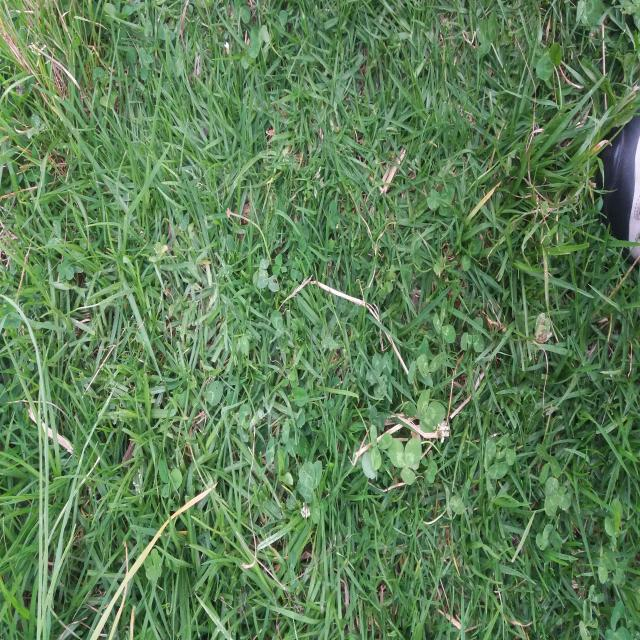Four Leaf Clover: (299, 460, 322, 513)
